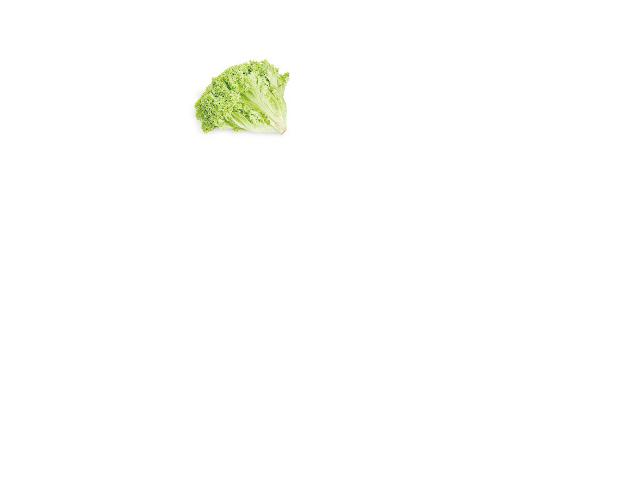lettuce: (189, 54, 293, 142)
